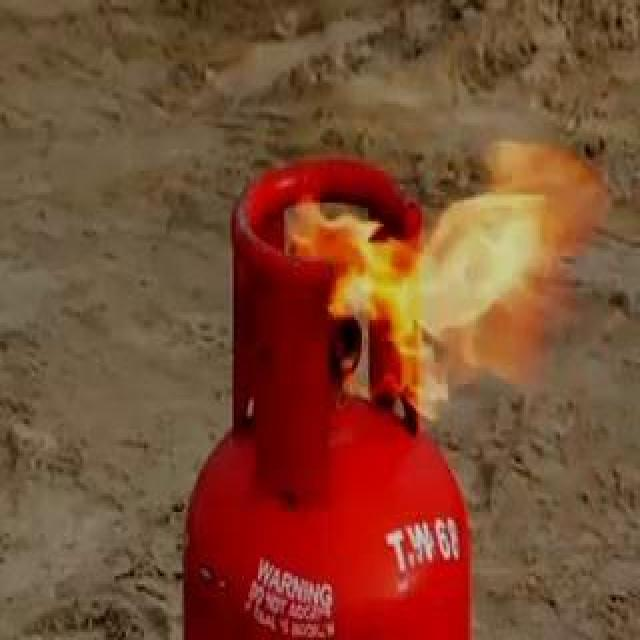Smoke: (263, 147, 639, 480)
